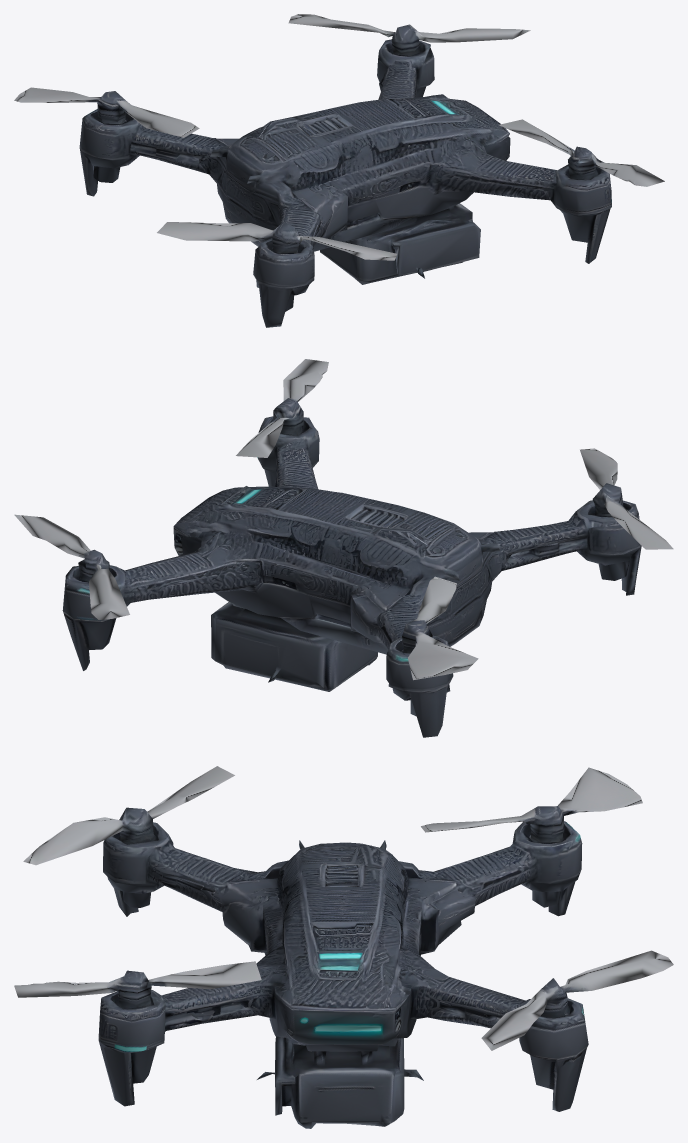
The picture shows the model from 3 angles, top to bottom: view 1: azimuth 30°, elevation 25°; view 2: azimuth 150°, elevation 25°; view 3: azimuth 270°, elevation 25°; orthographic projection. The views are drawn at different scales.
Parts seen in each view (by area): view 1: tripo_node_7580ff57-da90-469d-8e54-3abbf6f57654; view 2: tripo_node_7580ff57-da90-469d-8e54-3abbf6f57654; view 3: tripo_node_7580ff57-da90-469d-8e54-3abbf6f57654.
Part boxes in pixels (x1,y1,x2,y2): tripo_node_7580ff57-da90-469d-8e54-3abbf6f57654: (14,14,664,327); tripo_node_7580ff57-da90-469d-8e54-3abbf6f57654: (14,359,673,737); tripo_node_7580ff57-da90-469d-8e54-3abbf6f57654: (14,766,673,1128).
Size of the model in its own units: 0.9702 by 0.3 by 0.9593.
Materials: 1 (1 with a texture image).
